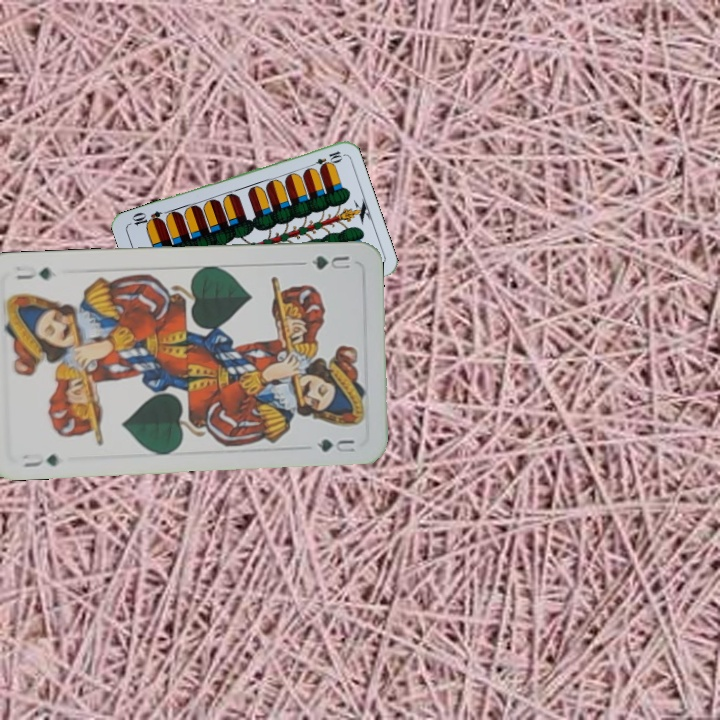E10: (305, 147, 345, 171)
GU: (307, 251, 353, 273), (18, 449, 60, 470)
